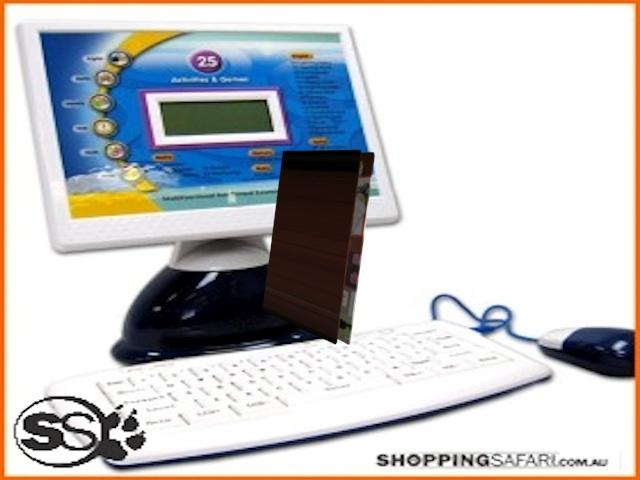ring_binder: (257, 144, 384, 352)
